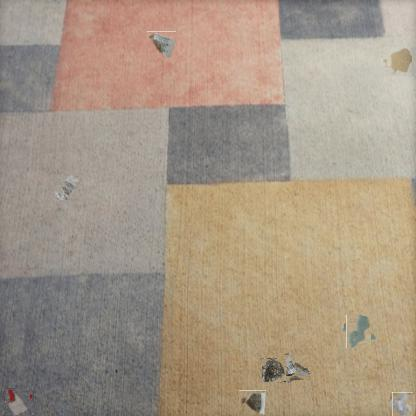dirty: (279, 352, 309, 382), (146, 31, 176, 58), (52, 174, 80, 202), (4, 389, 32, 416), (238, 390, 266, 415), (390, 392, 414, 416), (262, 358, 286, 382)
liquid: (384, 48, 416, 78), (344, 317, 374, 346)
